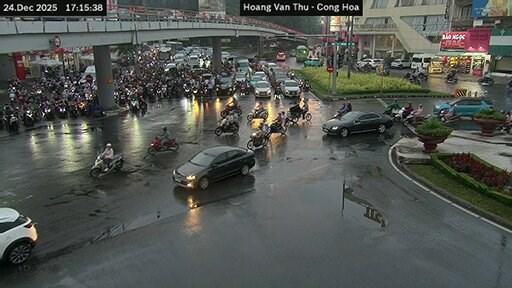motorbike: (89, 153, 122, 176), (147, 135, 178, 153), (288, 104, 310, 122), (246, 130, 268, 148), (438, 108, 460, 124), (214, 121, 239, 135), (403, 112, 428, 125), (246, 108, 268, 120), (220, 104, 240, 117), (268, 121, 285, 135), (477, 73, 493, 85), (42, 104, 54, 120), (413, 68, 428, 80), (22, 109, 33, 125), (8, 114, 18, 130), (76, 100, 86, 115), (69, 103, 79, 117), (182, 82, 191, 97), (57, 103, 67, 116), (128, 99, 138, 112), (332, 109, 348, 117), (409, 73, 419, 85), (300, 80, 310, 90), (0, 113, 6, 129), (239, 84, 247, 94), (444, 75, 457, 81), (505, 79, 511, 90)
